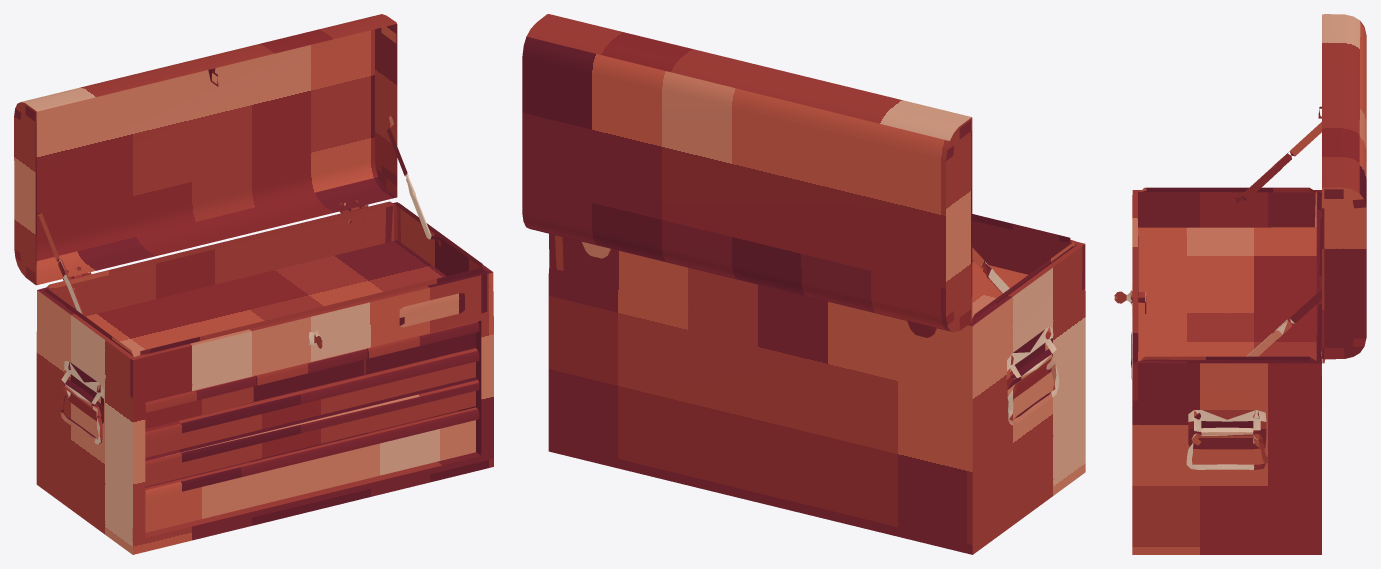
Rendered from chest_hd.glb.
3 views of the same model, side by side, from view 1: azimuth 30°, elevation 25°; view 2: azimuth 150°, elevation 25°; view 3: azimuth 270°, elevation 25° (orthographic). The views are drawn at different scales.
Parts seen in each view (by area): view 1: mesh; view 2: mesh; view 3: mesh.
Boxes of the visible parts, bbox=[...] form: mesh: bbox=[14, 14, 493, 554]; mesh: bbox=[522, 14, 1085, 554]; mesh: bbox=[1114, 14, 1366, 554].
Size of the model in its own units: 1.05 by 1 by 0.6216.
Materials: 1 (1 with a texture image).
